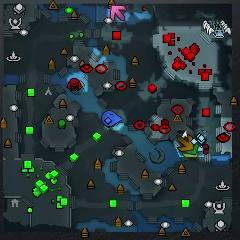p1: (101, 110, 122, 128)
x1: (110, 6, 127, 22)
x2: (183, 152, 198, 160)
x4: (183, 142, 200, 154)
x5: (177, 134, 194, 153)
